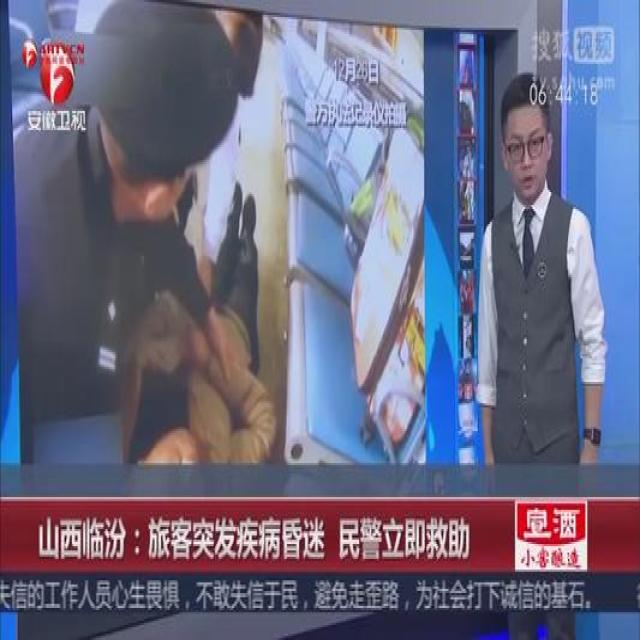Fall: (110, 161, 281, 481)
